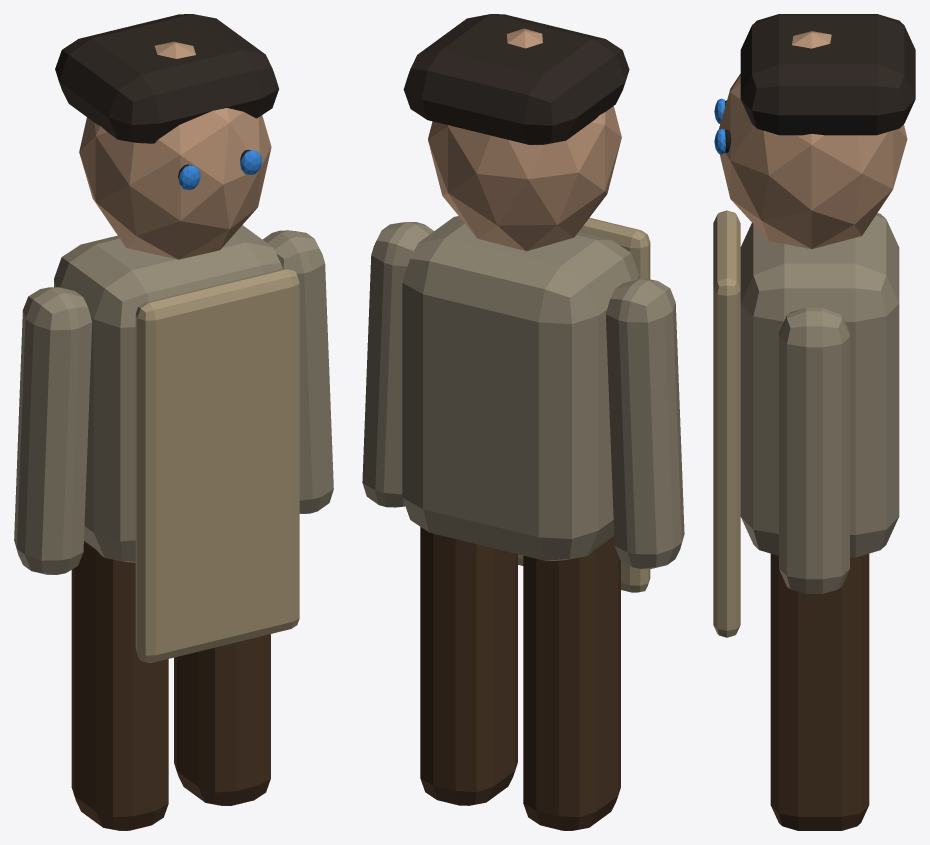
The model's file is ezekiel_4178.glb.
The picture shows the model from 3 angles, left to right: view 1: azimuth 30°, elevation 25°; view 2: azimuth 150°, elevation 25°; view 3: azimuth 270°, elevation 25°; orthographic projection.
Visible parts, largest first — view 1: Work apron, Booted leg, Fitted torso, Head, Hair, Detailed arm, Booted leg.001, Detailed arm.001; view 2: Fitted torso, Booted leg, Booted leg.001, Hair, Detailed arm, Head, Detailed arm.001, Work apron; view 3: Fitted torso, Booted leg.001, Detailed arm.001, Hair, Head, Work apron.
Part boxes in pixels (x1,y1,x2,y2): Work apron: [135, 269, 299, 662]; Booted leg: [71, 541, 168, 830]; Fitted torso: [54, 225, 282, 562]; Head: [79, 41, 271, 259]; Hair: [55, 14, 278, 143]; Detailed arm: [14, 287, 92, 574]; Booted leg.001: [174, 634, 270, 805]; Detailed arm.001: [262, 230, 333, 513]; Fitted torso: [402, 216, 638, 560]; Booted leg: [523, 535, 620, 830]; Booted leg.001: [420, 527, 517, 805]; Hair: [403, 14, 629, 144]; Detailed arm: [606, 279, 684, 569]; Head: [428, 28, 621, 251]; Detailed arm.001: [362, 222, 433, 507]; Work apron: [518, 217, 650, 592]; Fitted torso: [740, 213, 899, 557]; Booted leg.001: [770, 553, 869, 830]; Detailed arm.001: [779, 307, 849, 593]; Hair: [740, 14, 915, 135]; Head: [719, 31, 907, 249]; Work apron: [713, 210, 740, 637].
Bounding box in the file's own units: 1.29 × 3.09 × 0.74.
